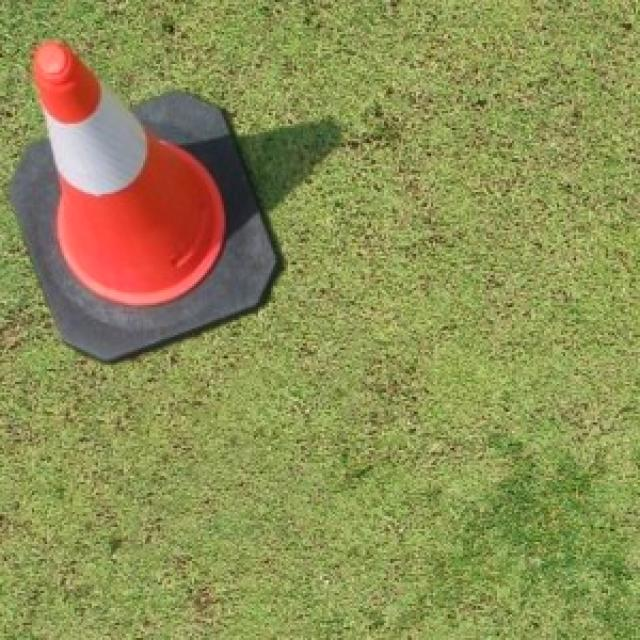cone: (4, 36, 282, 358)
